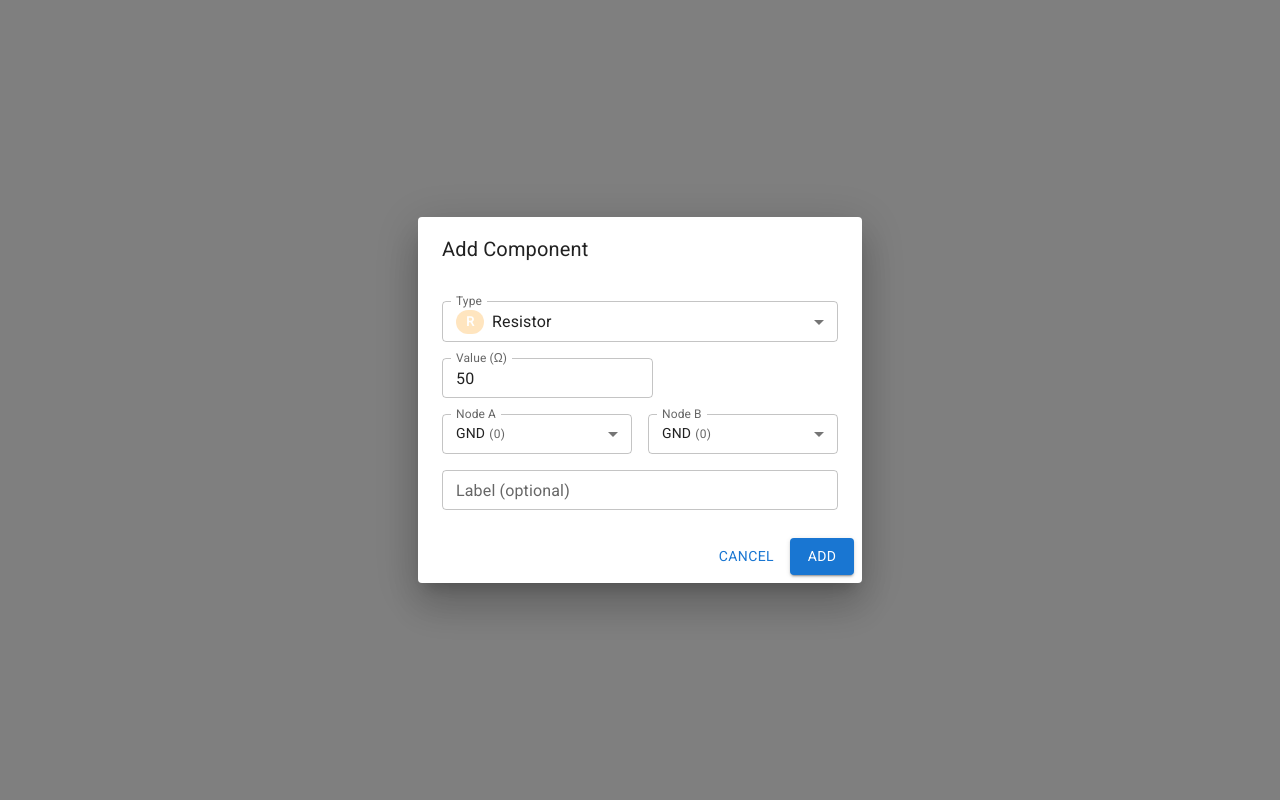
Scenario: ComponentEditDialog › Node Pair Constraints › should reject when Node A equals Node B
Clear the field labelled "Value (Ω)": coordinates (548, 378) [442,358,653,398]
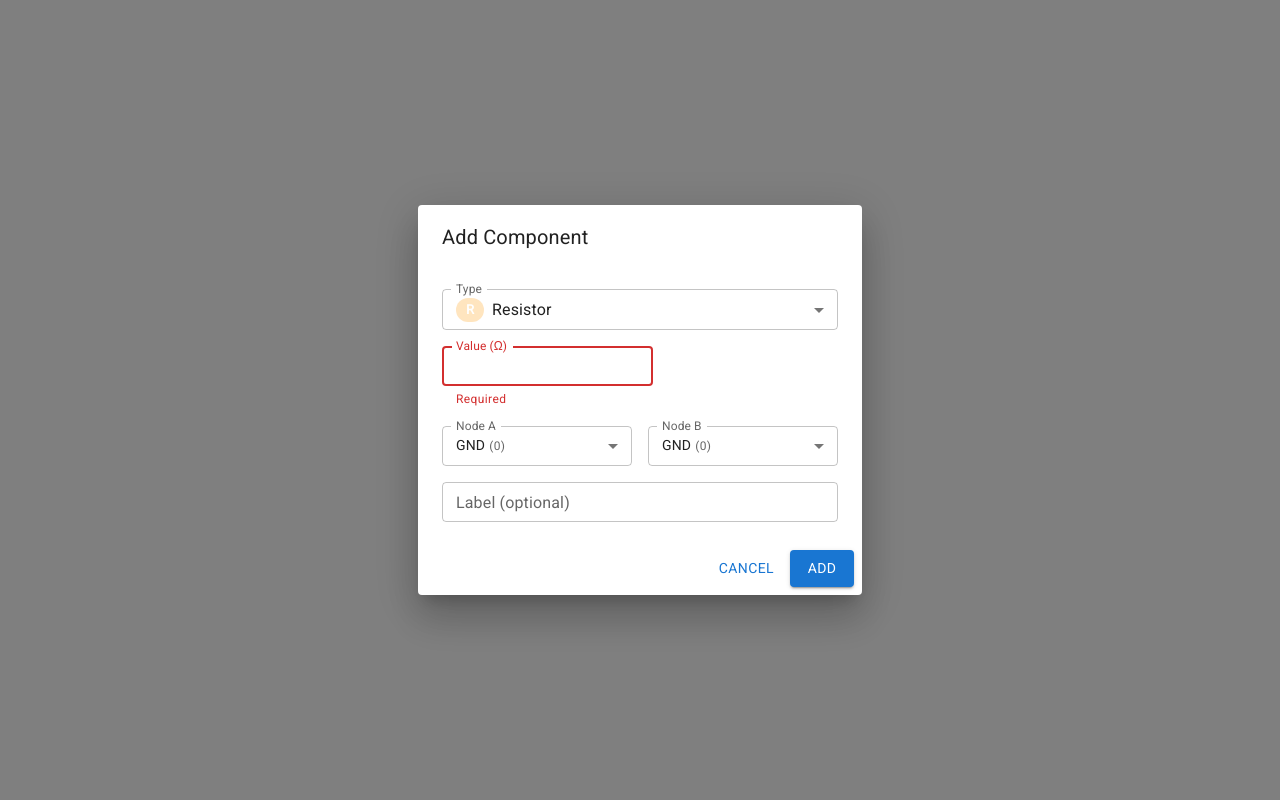
In the field labelled "Value (Ω)": coordinates (548, 366) [442,346,653,386], type "100"
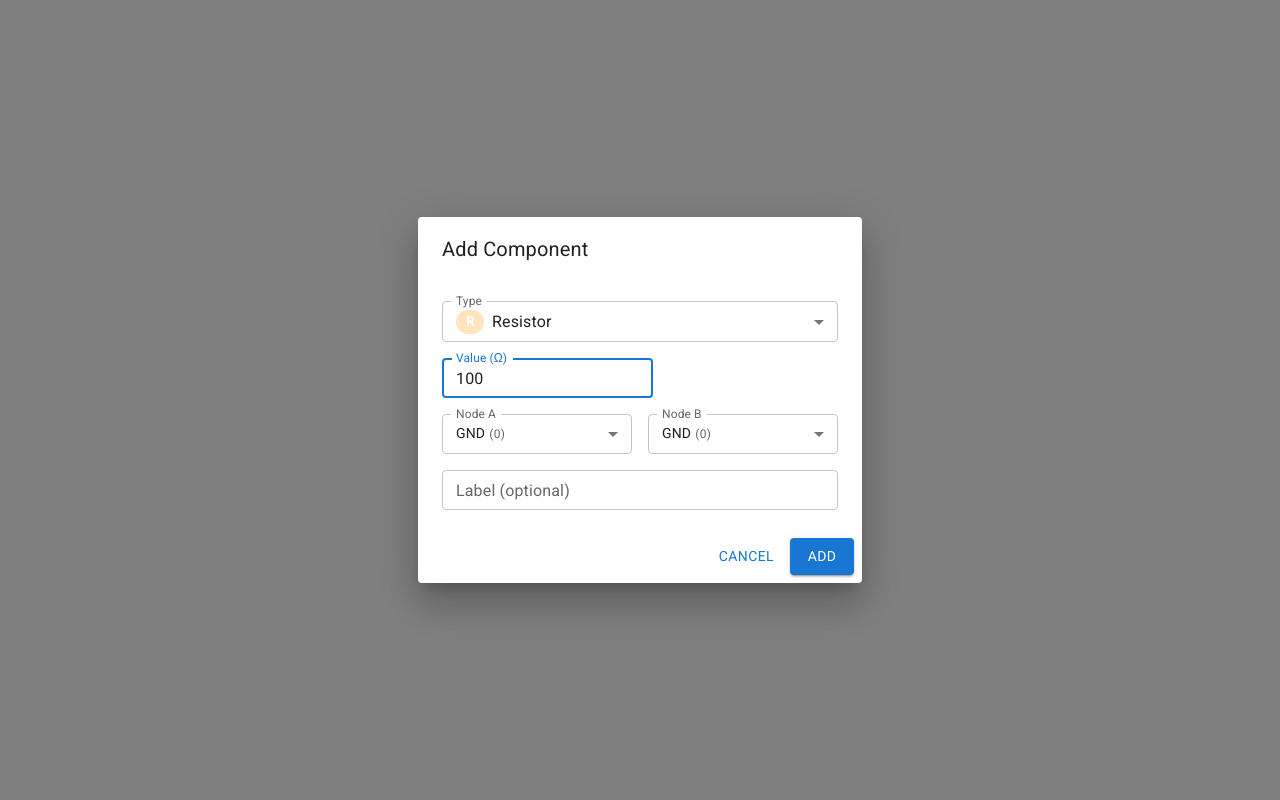
Click the button "Add": coordinates (822, 557) [790,538,854,575]
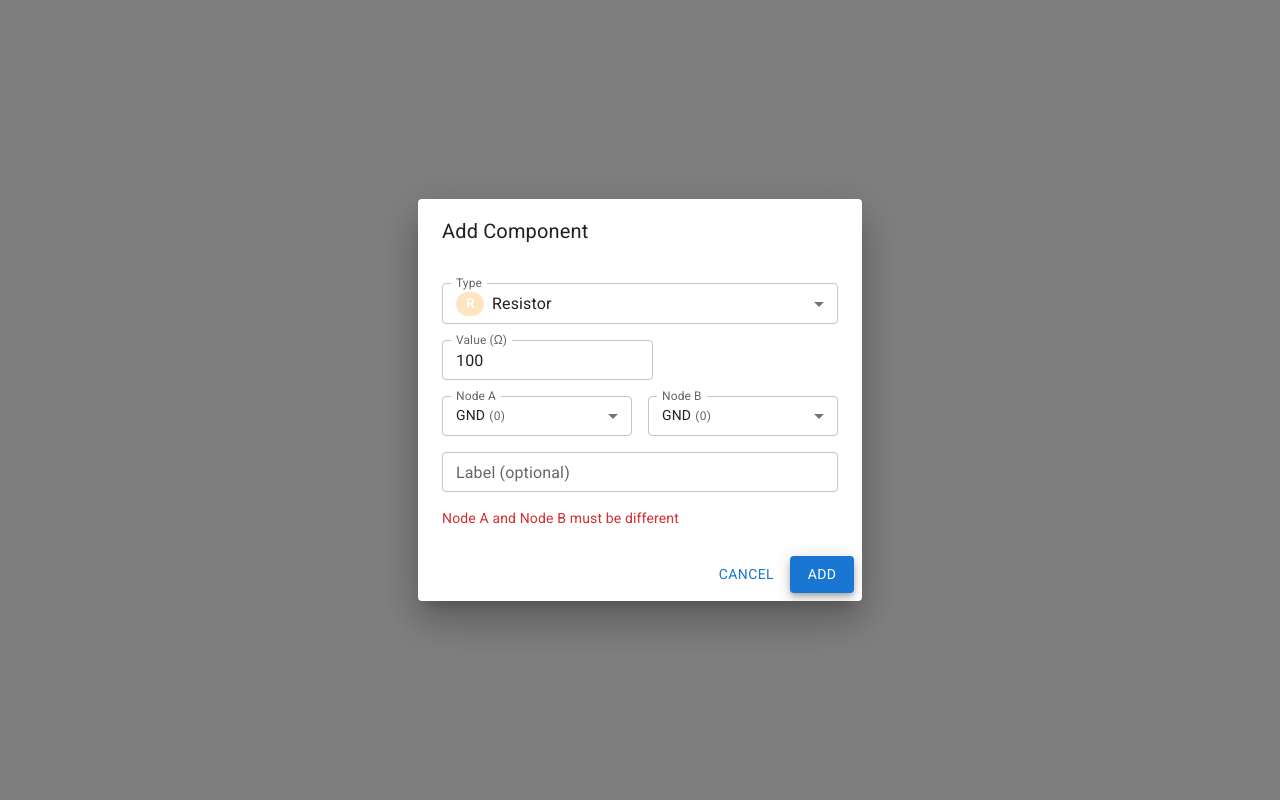
expect the text "Node A and Node B must be different" is shown: met, box [442,510,679,526]
